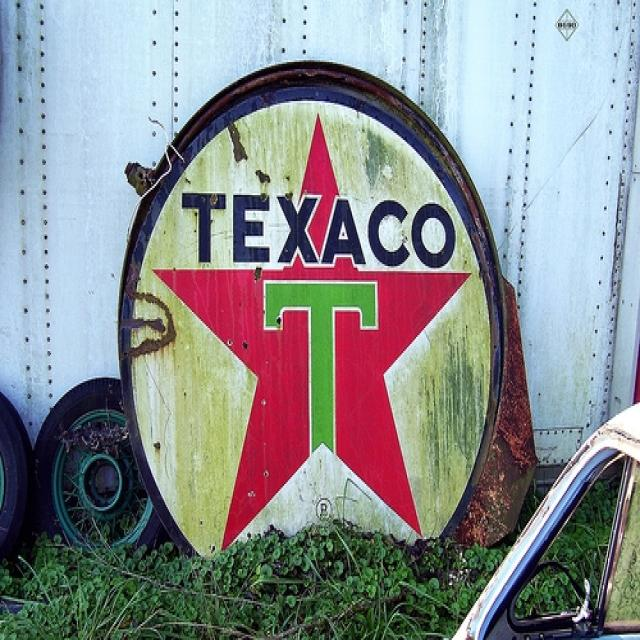texaco: (127, 97, 495, 561)
